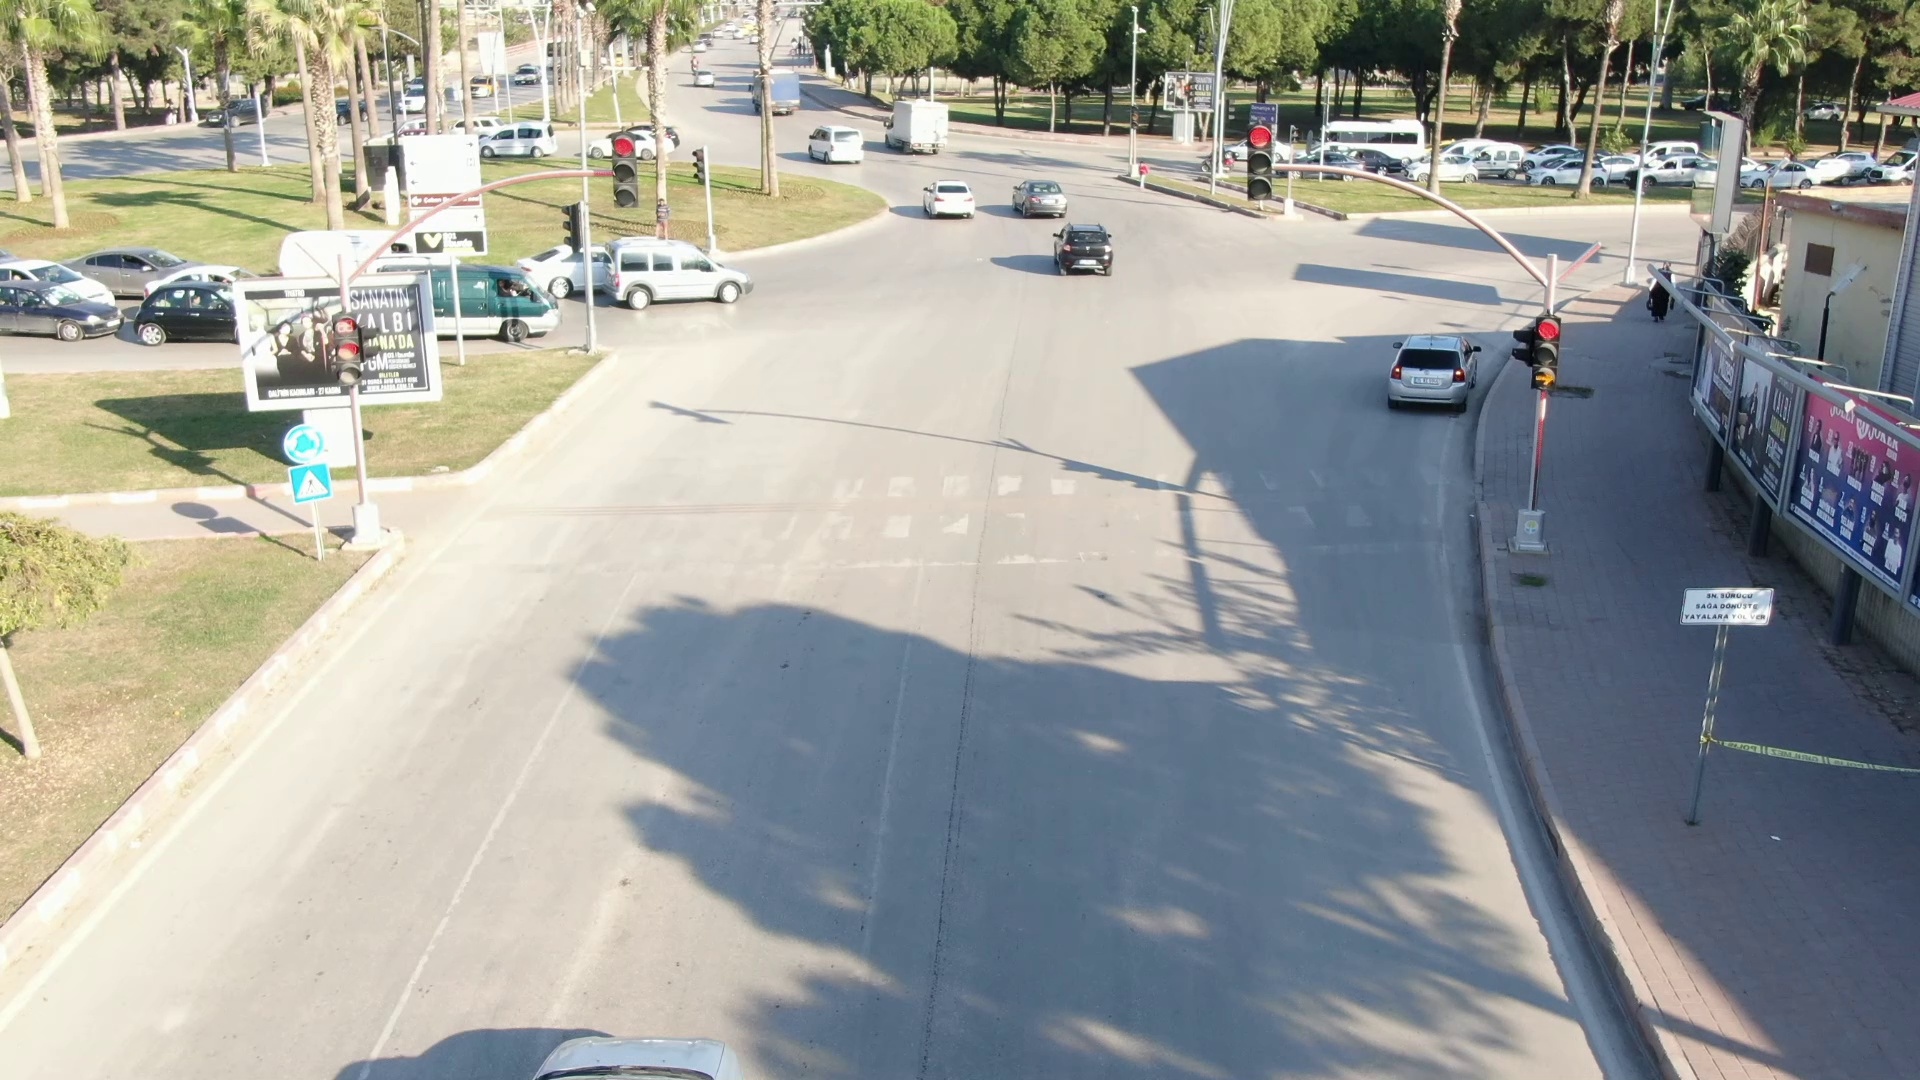car: (592, 229, 785, 323), (1371, 313, 1487, 426), (1029, 214, 1121, 284), (876, 88, 953, 161), (794, 115, 876, 173), (906, 171, 981, 224), (1010, 173, 1075, 222)
